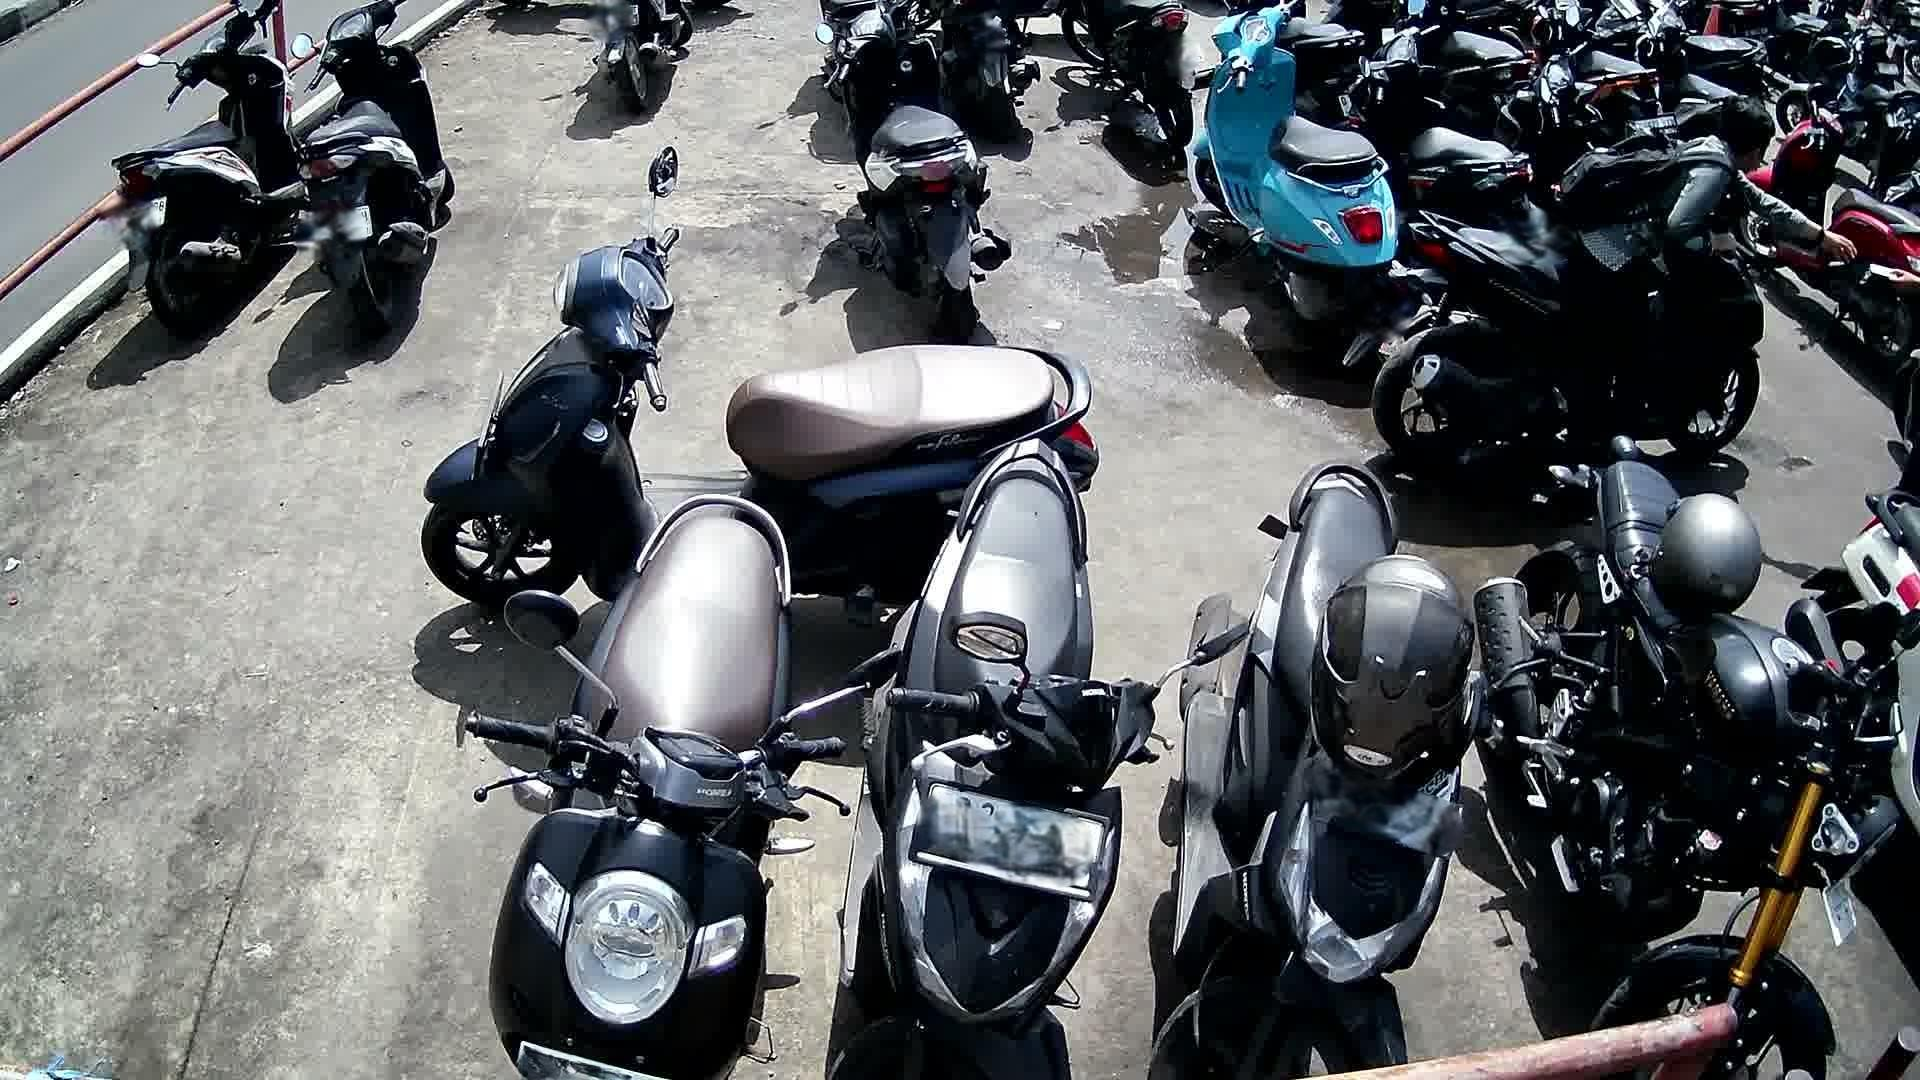motorcycle: (419, 146, 1100, 615), (1472, 434, 1900, 1080), (468, 493, 901, 1080), (827, 433, 1218, 1080), (1149, 458, 1501, 1080), (1373, 207, 1767, 472), (1191, 0, 1399, 368), (814, 0, 1014, 343), (108, 0, 301, 336), (290, 0, 458, 334), (1741, 87, 1920, 368), (1785, 483, 1920, 855), (1333, 0, 1538, 222)
